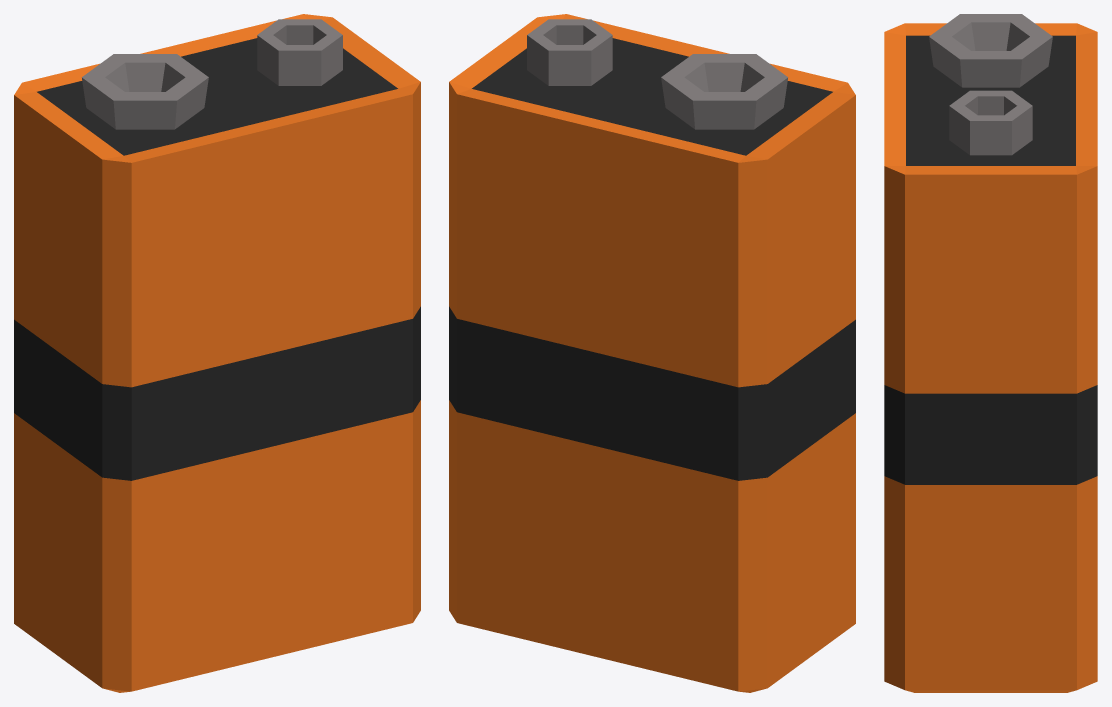
Rendered from survival-battery-9v.glb.
The picture shows the model from 3 angles, left to right: view 1: azimuth 30°, elevation 25°; view 2: azimuth 150°, elevation 25°; view 3: azimuth 270°, elevation 25°; orthographic projection. The views are drawn at different scales.
Parts seen in each view (by area): view 1: battery-9v; view 2: battery-9v; view 3: battery-9v.
Part boxes in pixels (<box>): battery-9v: <box>14,14,420,692</box>; battery-9v: <box>449,14,855,692</box>; battery-9v: <box>884,14,1097,692</box>.
Bounding box in the file's own units: 0.03 × 0.0518 × 0.0179.
